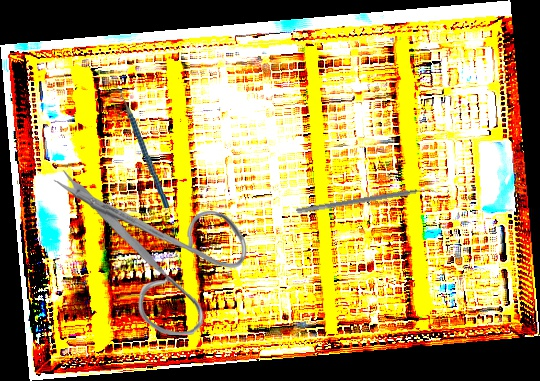Chopper: (109, 82, 170, 211)
Iris Scissors: (50, 163, 250, 340)
Spatula Surgical: (296, 183, 439, 220)
